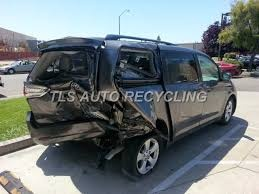Broken-glass: (113, 48, 157, 80), (92, 93, 116, 115)
Smashed: (45, 80, 155, 167)
